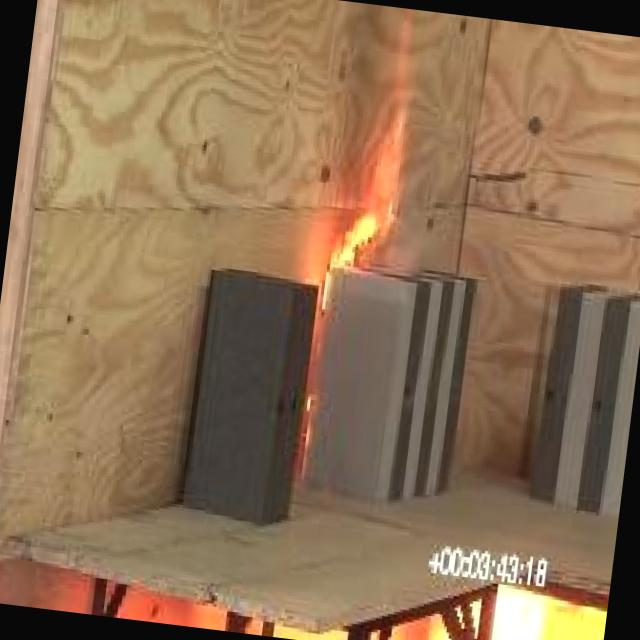fire: (301, 182, 422, 344)
